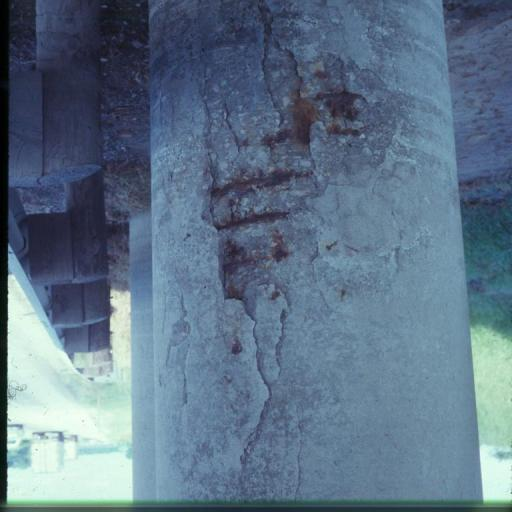spalling: (187, 47, 420, 317), (234, 326, 283, 480), (292, 418, 315, 497)
